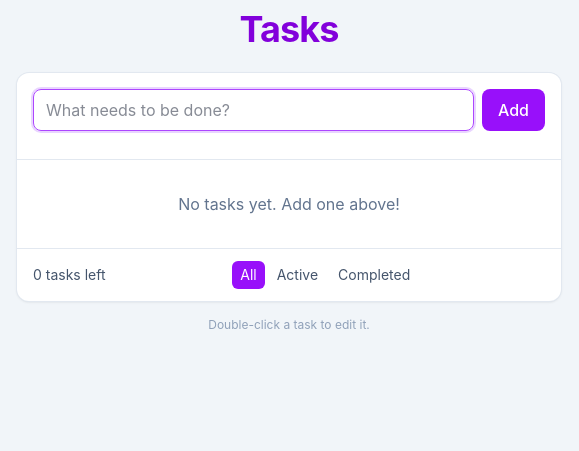
Test: US-2 Edit a task › editing keeps completed state and position
Type "A" into the field named "New task" at (254,110), box x1=33 y1=89 x2=474 y2=131
Then press Enter
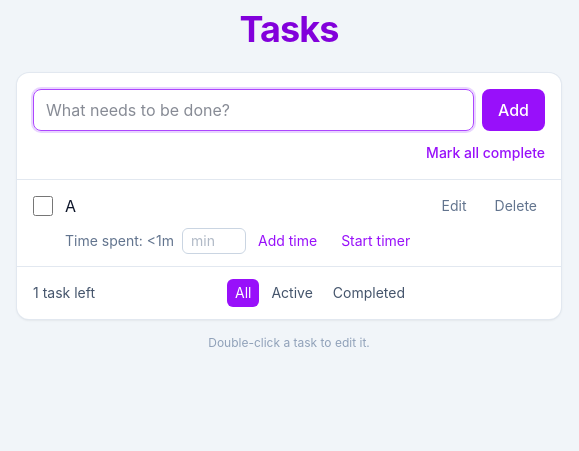
Type "B" into the field named "New task" at (254,110), box x1=33 y1=89 x2=474 y2=131
Then press Enter
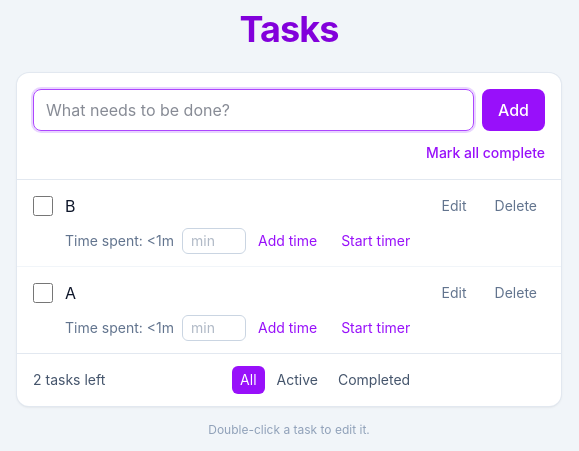
Click the checkbox named "\"B\"" at (43,206), box x1=33 y1=196 x2=53 y2=216
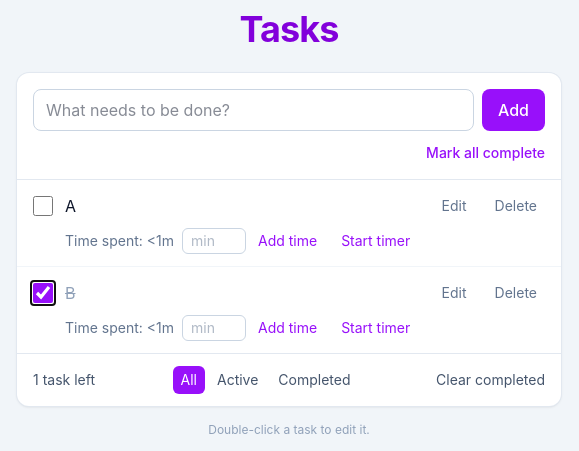
Double-click the text "B" at (70,293), box x1=65 y1=283 x2=76 y2=303
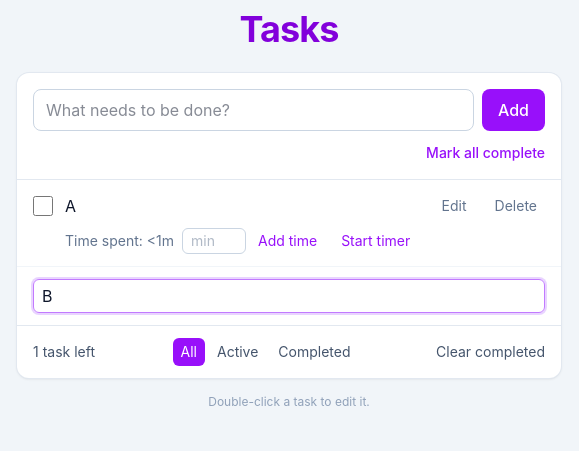
Type "2" into the field named "Edit task \"B\"" at (289,296), box x1=33 y1=279 x2=545 y2=313
Then press Enter
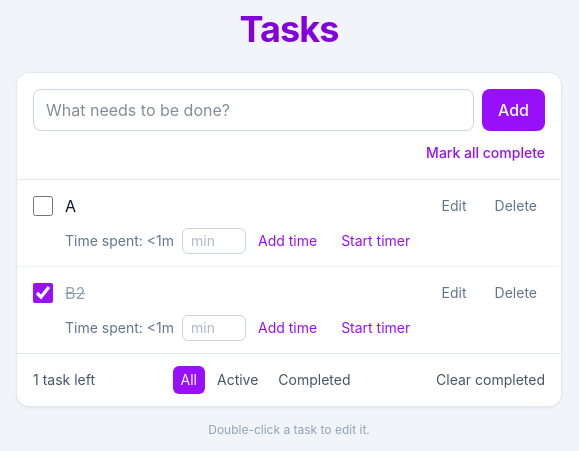
Result: the checkbox named "\"B2\"" is checked at x1=33 y1=283 x2=53 y2=303
